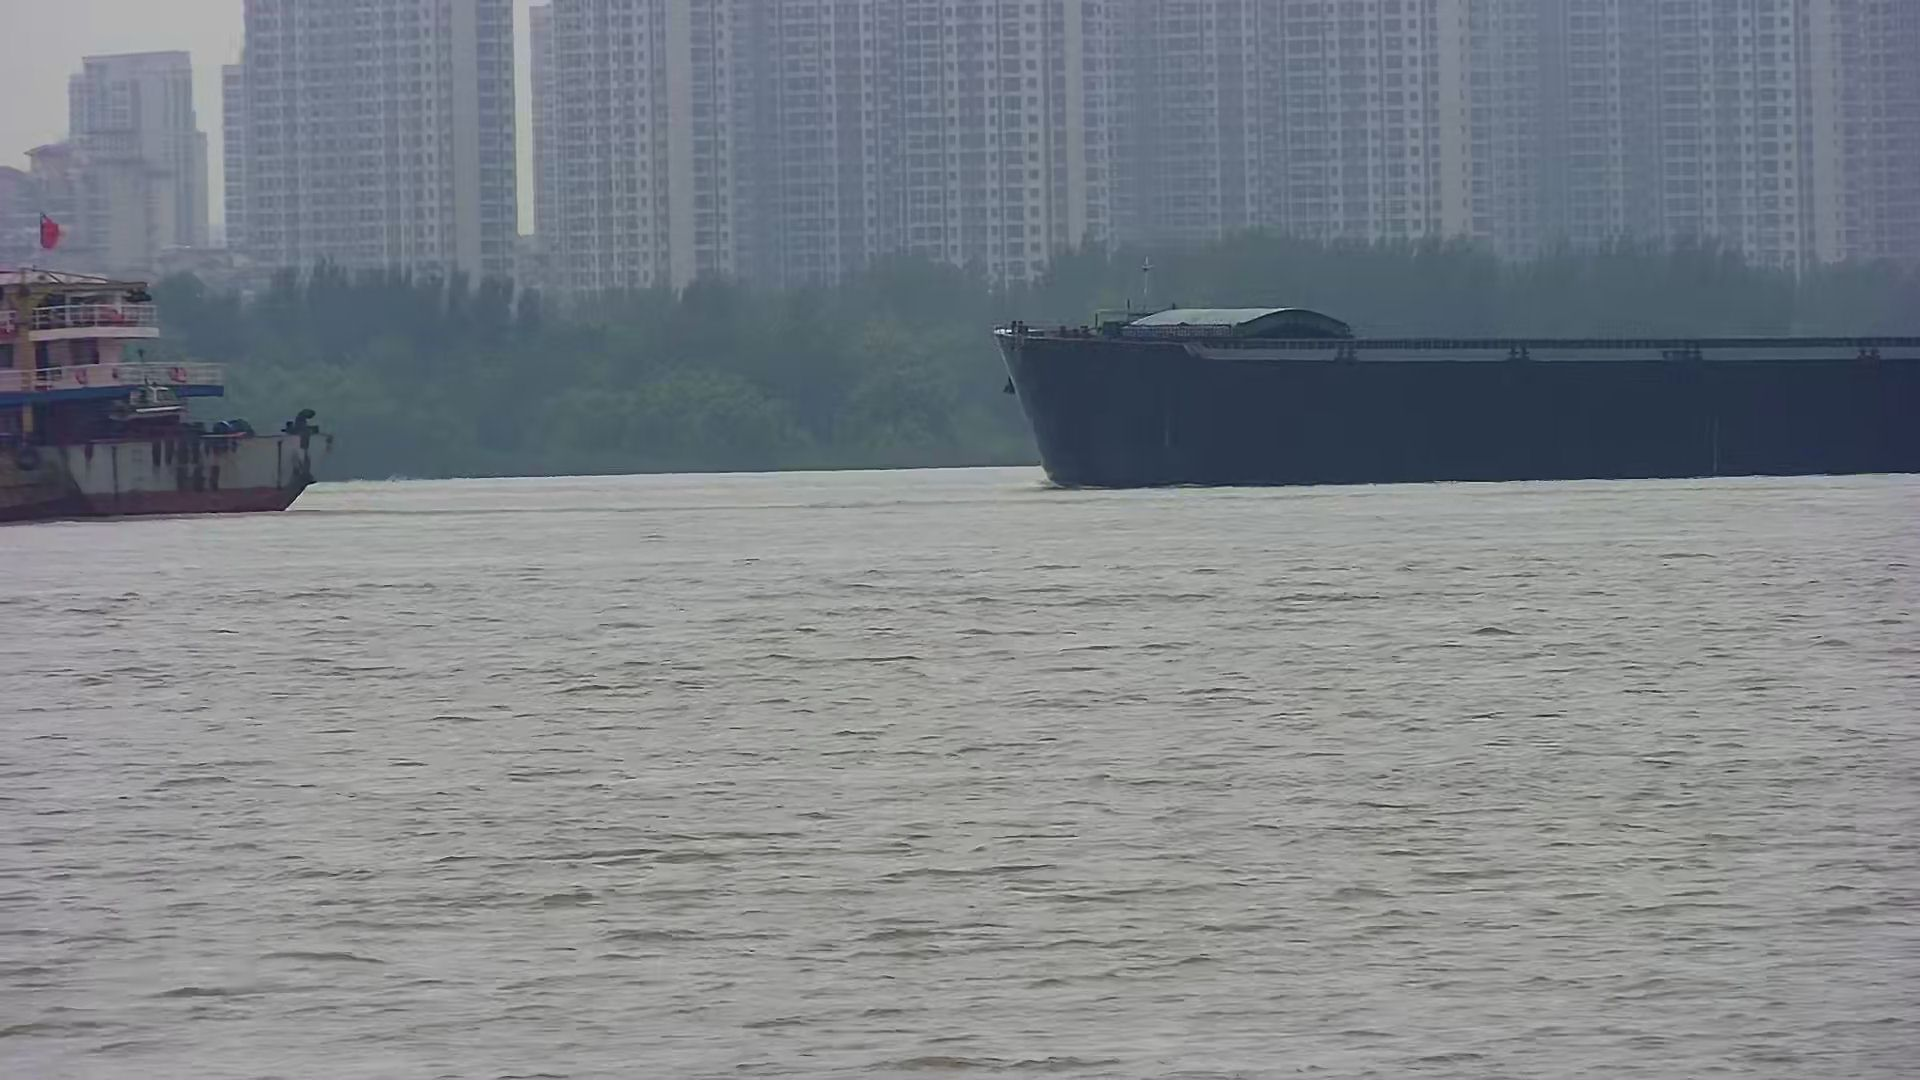ship: (998, 295, 1920, 491), (1, 244, 328, 524)
